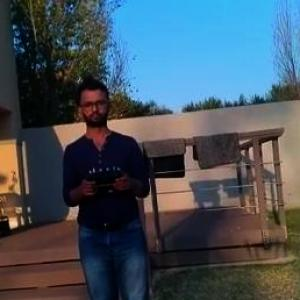follow: (62, 74, 157, 299)
